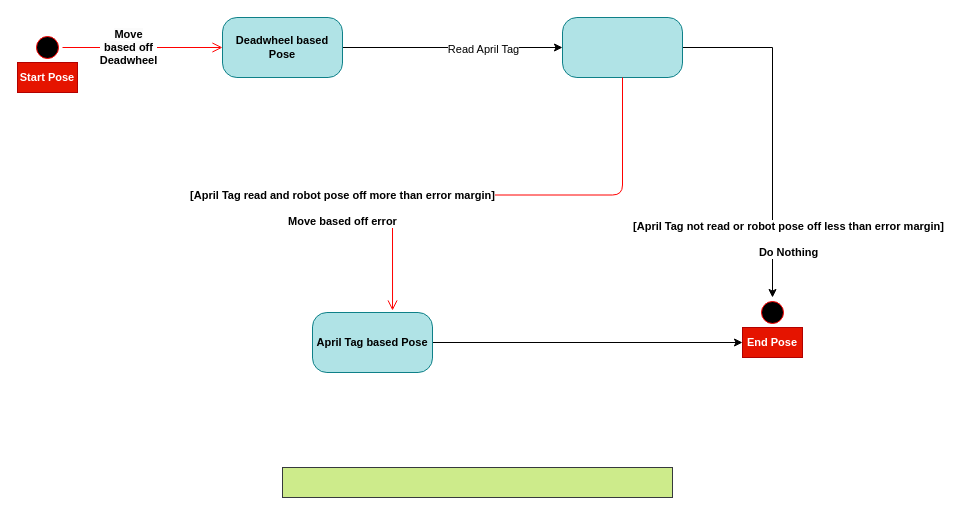
The diagram is 961 pixels wide and 515 high, and some of its shapes have lost their labels. Each missing label, with the box of its shape:
April Tag Read: (562, 16, 682, 78)
Move Read Correct Cycle: (282, 466, 672, 498)
